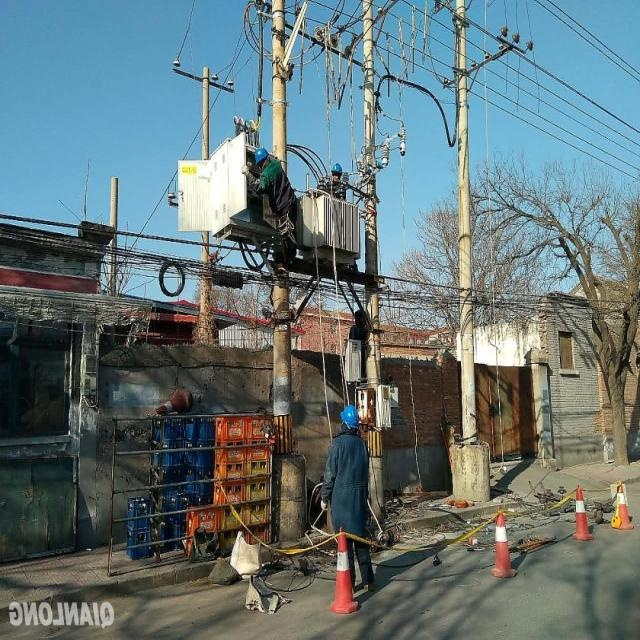Con_Casco: (340, 404, 359, 431)
Sin_Chaleco: (332, 434, 367, 502)
